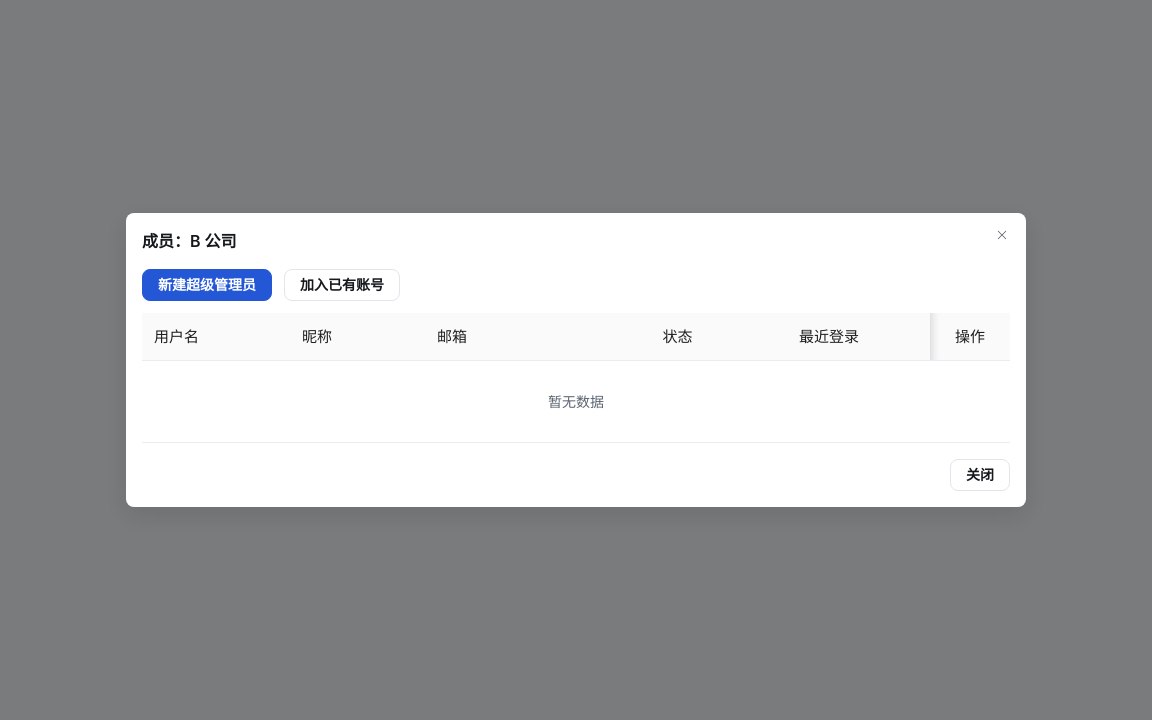
Test: platform: add an existing account to a company › names the dialog Members and opens the join dialog from there
Click the button "加入已有账号": (342, 285) [284,269,400,301]
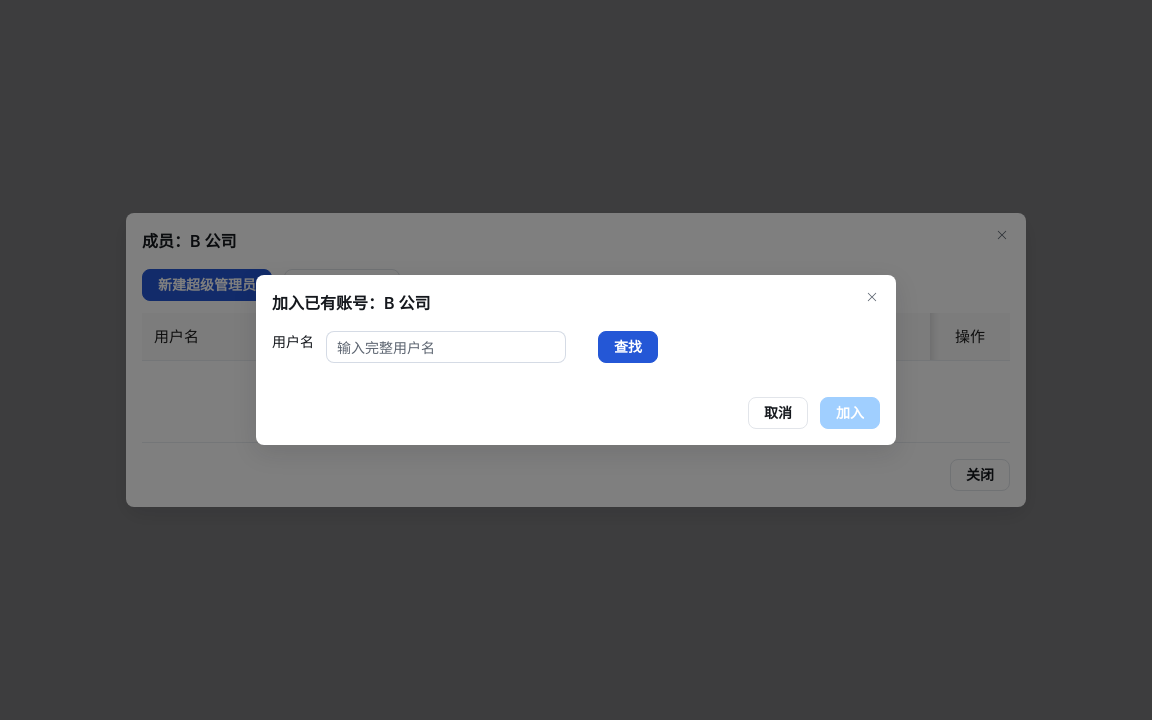
Result: the text "加入已有账号：B 公司" is shown at [272,293,431,313]
